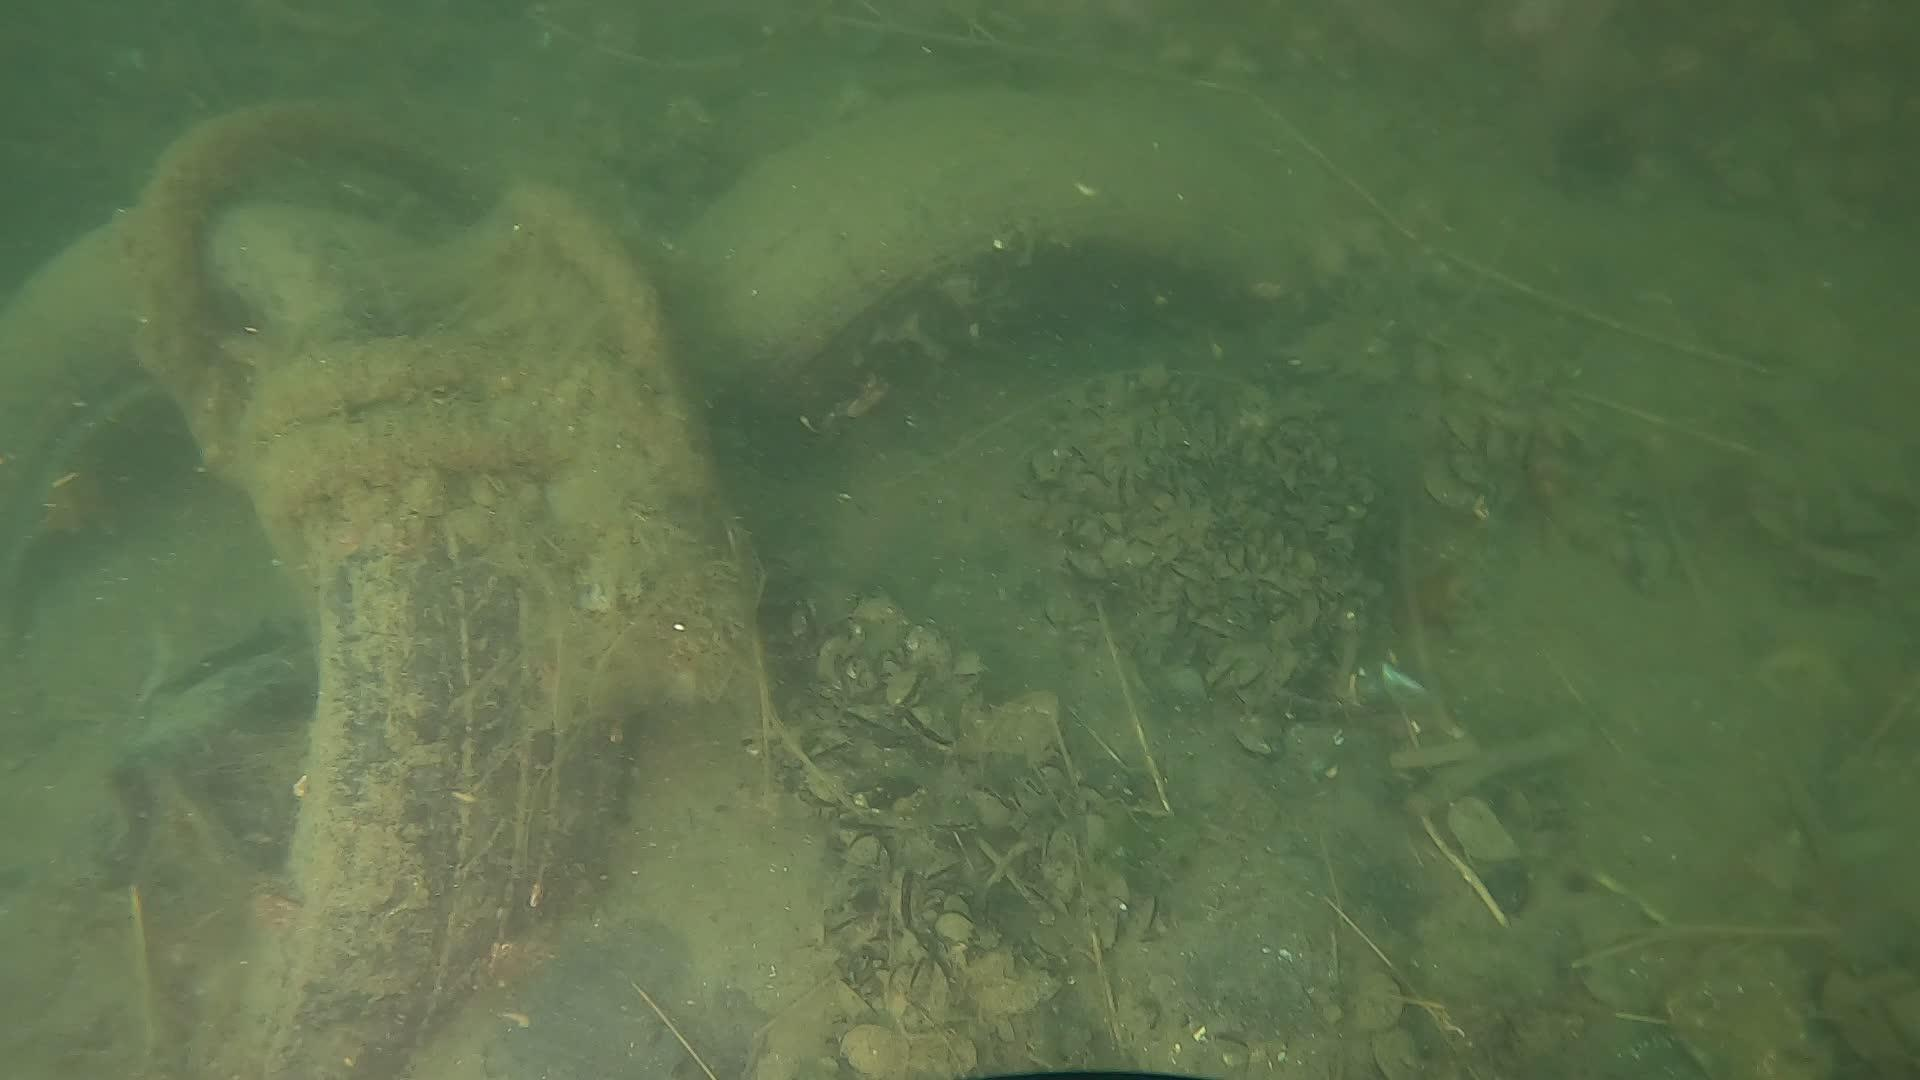tire: (0, 204, 626, 1080)
